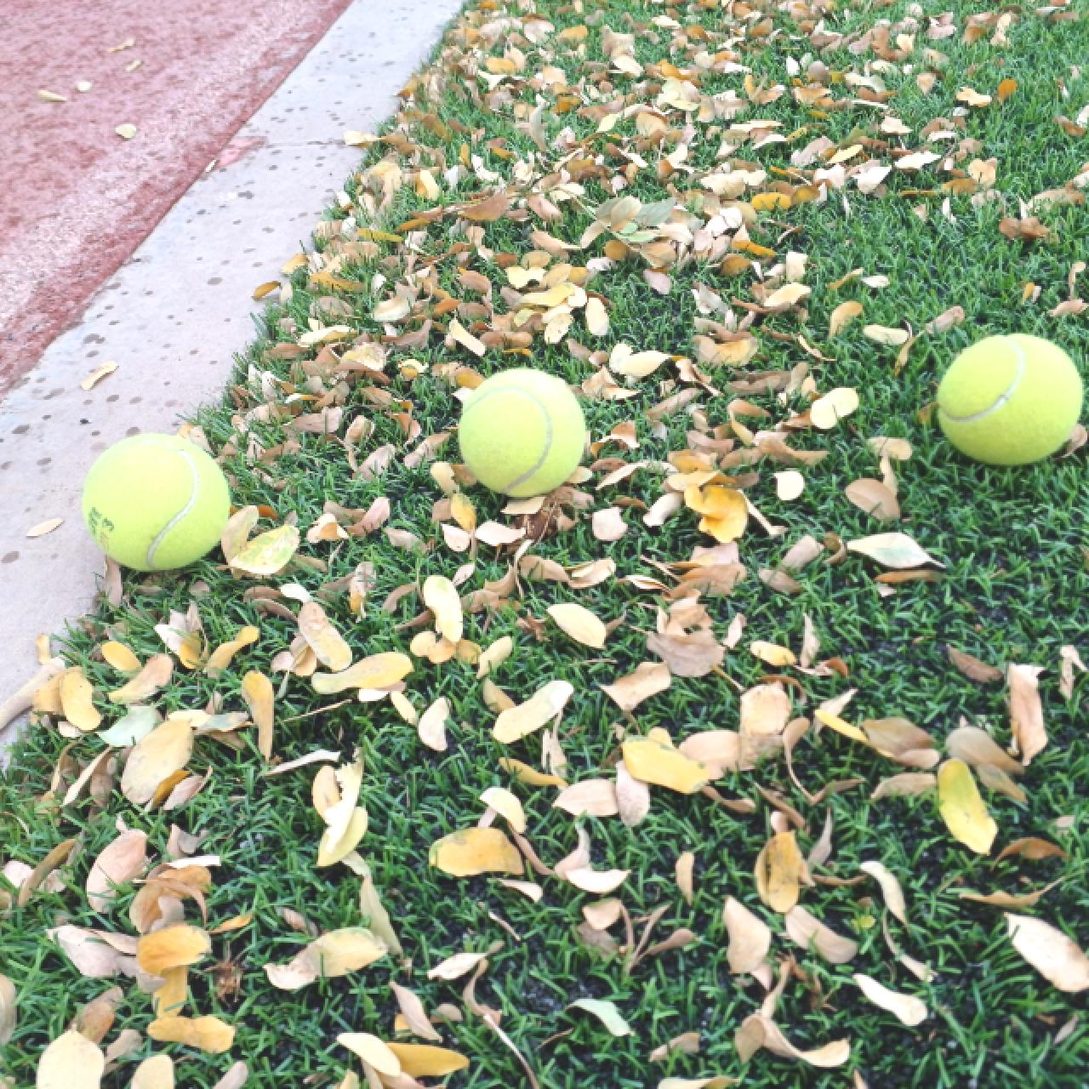tennis-ball: (79, 432, 231, 571), (937, 332, 1086, 466), (459, 366, 585, 498)
